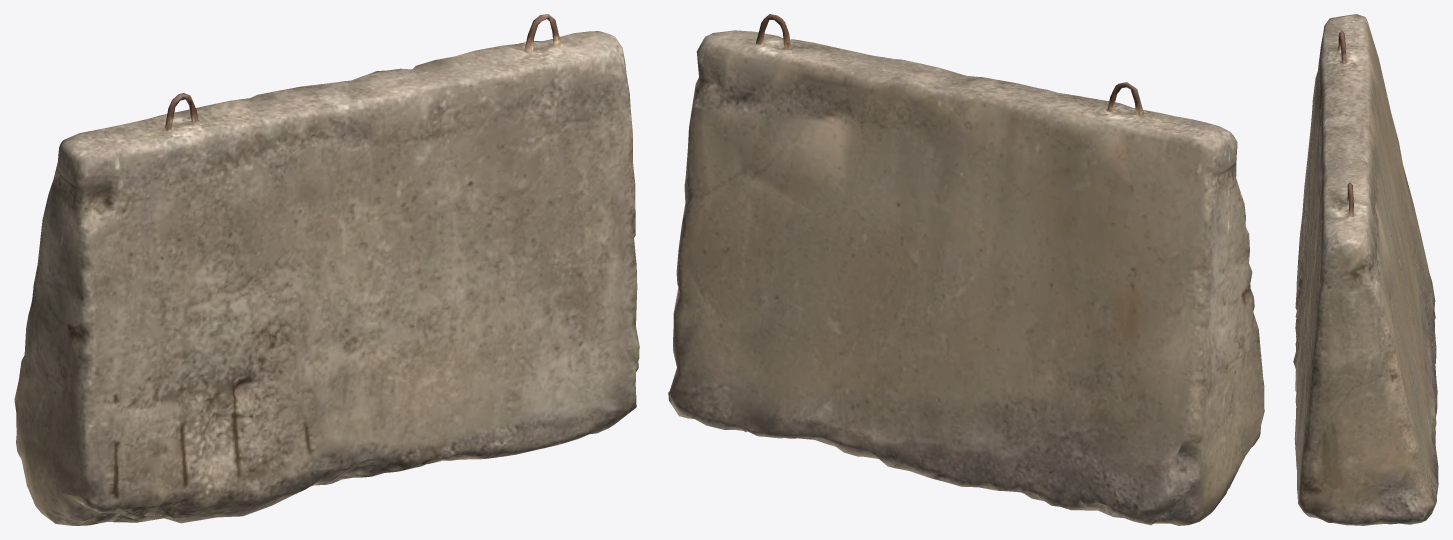
Rendered from scene-barrier2.glb.
3 views of the same model, side by side, from view 1: azimuth 30°, elevation 25°; view 2: azimuth 150°, elevation 25°; view 3: azimuth 270°, elevation 25° (orthographic). The views are drawn at different scales.
Visible parts, largest first — view 1: concrete_road_barrier_02; view 2: concrete_road_barrier_02; view 3: concrete_road_barrier_02.
Boxes of the visible parts, x1,y1,x2,y2 form: concrete_road_barrier_02: (14,14,639,525); concrete_road_barrier_02: (668,14,1264,525); concrete_road_barrier_02: (1293,14,1438,525).
Bounding box in the file's own units: 1.56 × 1.11 × 0.4418.
Materials: 1 (1 with a texture image).
